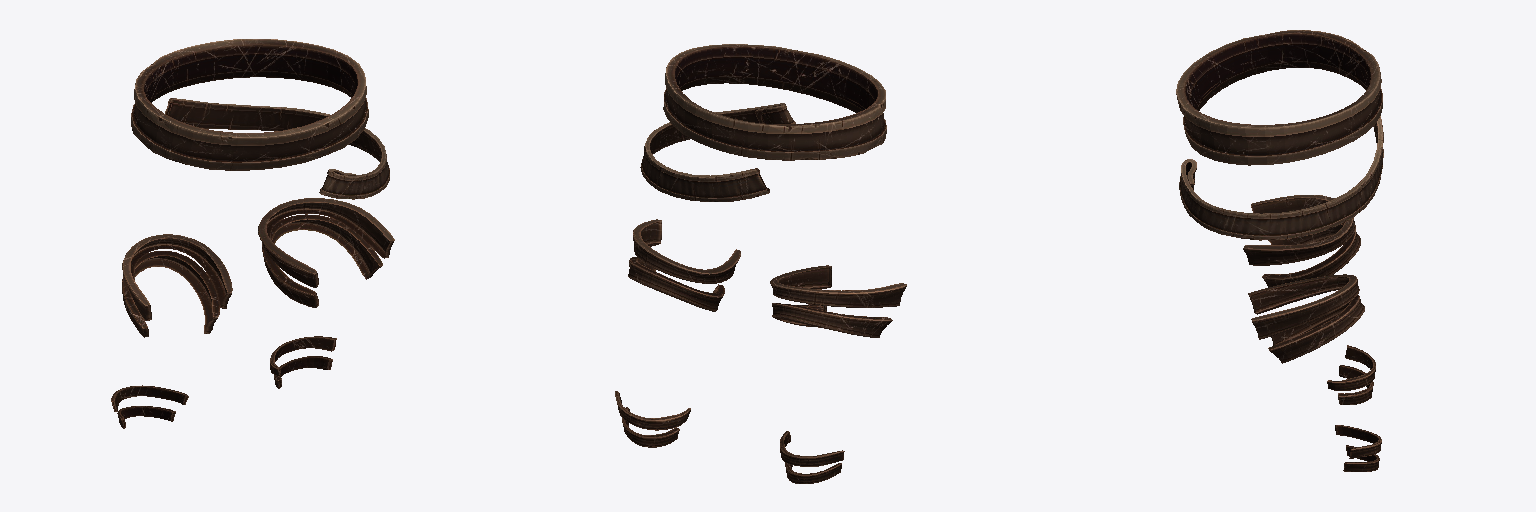
3 renders of one model, left to right at view 1: azimuth 30°, elevation 25°; view 2: azimuth 150°, elevation 25°; view 3: azimuth 270°, elevation 25°, orthographic.
Parts seen in each view (by area): view 1: LegsClothes_Leather; view 2: LegsClothes_Leather; view 3: LegsClothes_Leather.
Part boxes in pixels (left/top/right/bottom): LegsClothes_Leather: left=111, top=39, right=394, bottom=428; LegsClothes_Leather: left=615, top=44, right=906, bottom=483; LegsClothes_Leather: left=1176, top=30, right=1383, bottom=471.
Size of the model in its own units: 2.65 by 3.55 by 1.89.
1 materials, 1 textured.